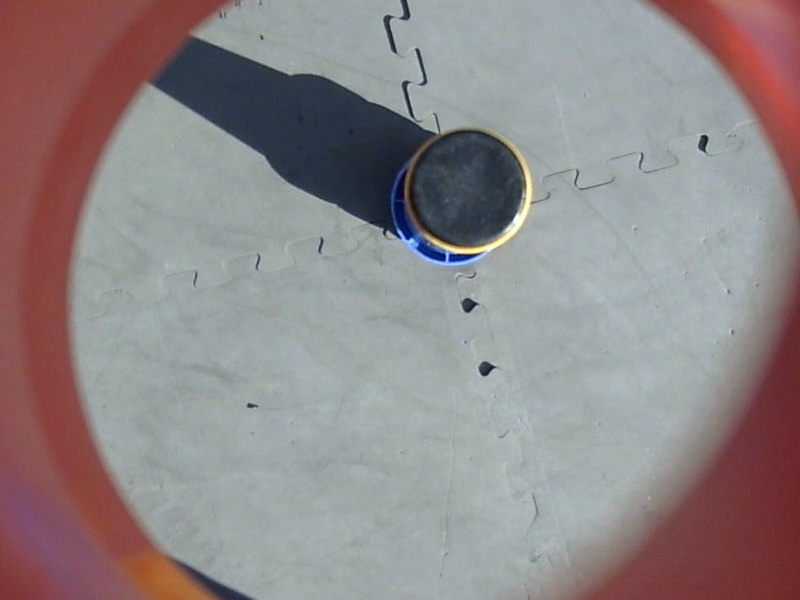tip: (400, 123, 537, 257)
